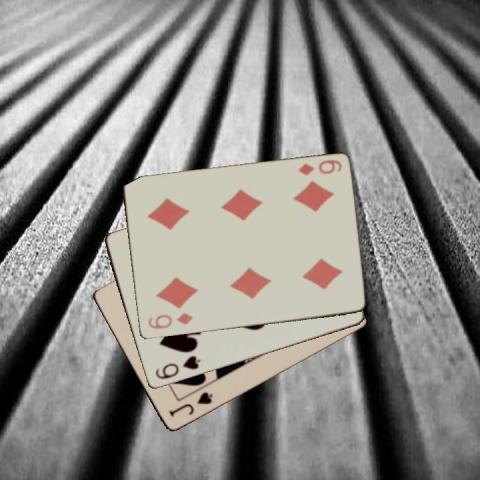6d: (145, 310, 194, 331), (294, 157, 343, 177)
6s: (152, 353, 202, 381)
Js: (165, 388, 214, 418)
